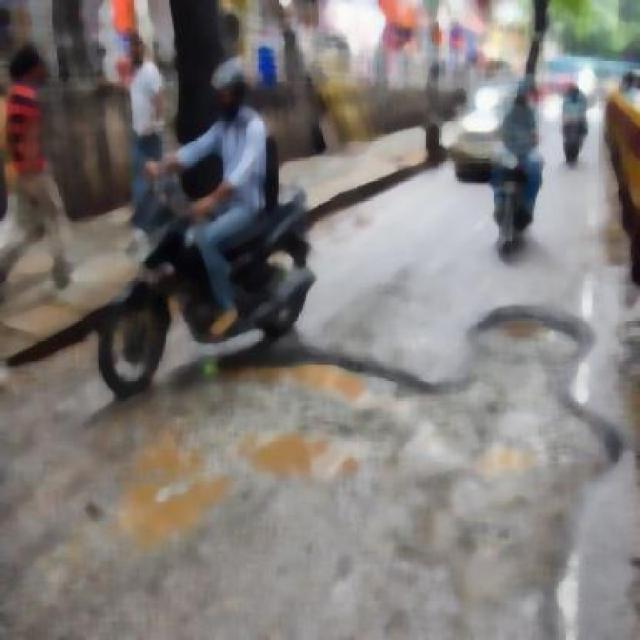pothole: (77, 367, 388, 533), (469, 318, 589, 363)
